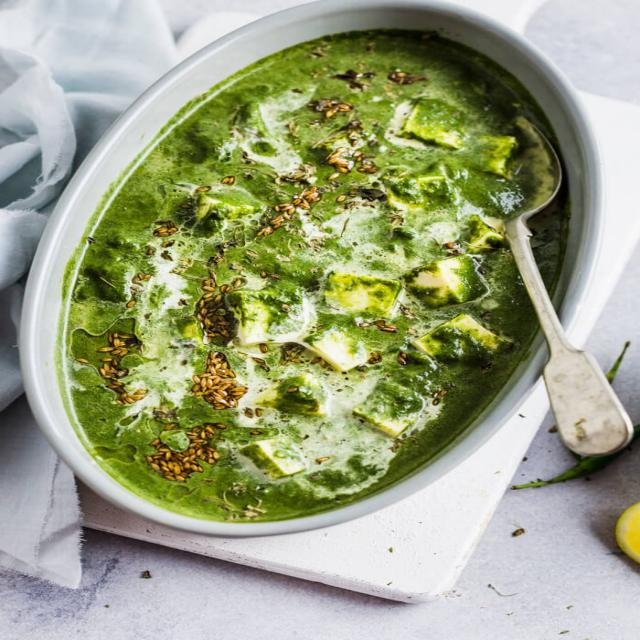Palak Paneer: (56, 24, 590, 526)
